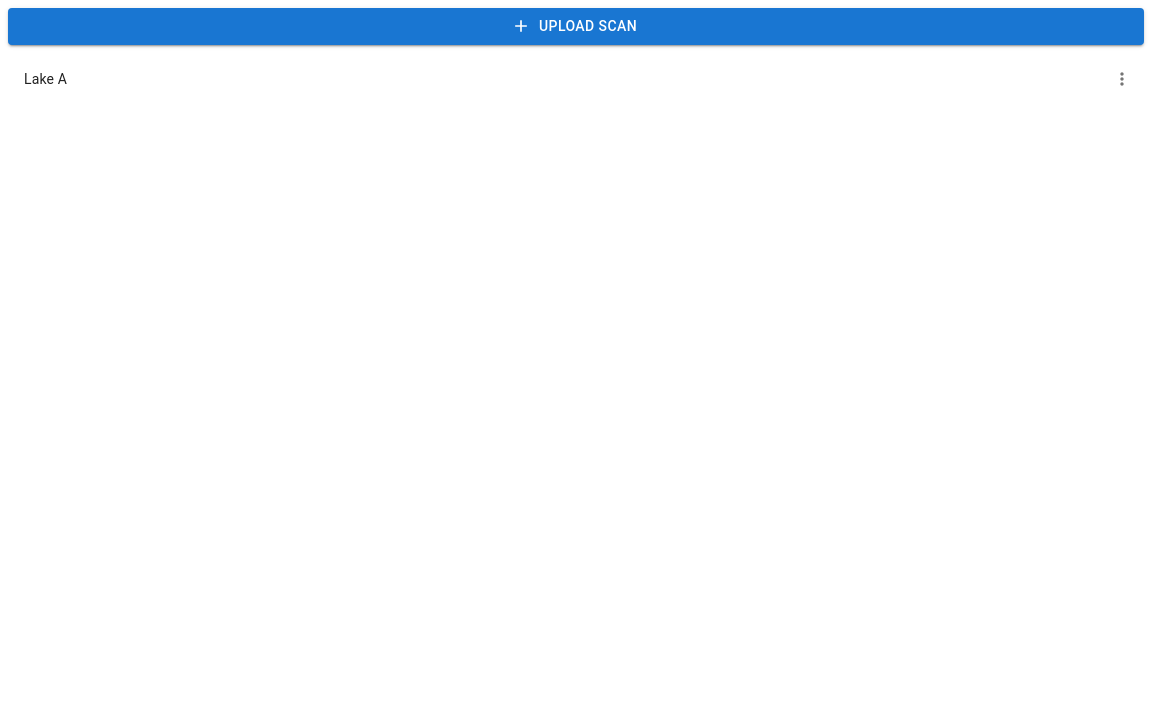
Test: <ScanLibrary/> › per-item menu: Merge scan… opens the merge dialog
Click the button named "more actions for lake a" at (1122, 78), box [1104,60,1140,96]
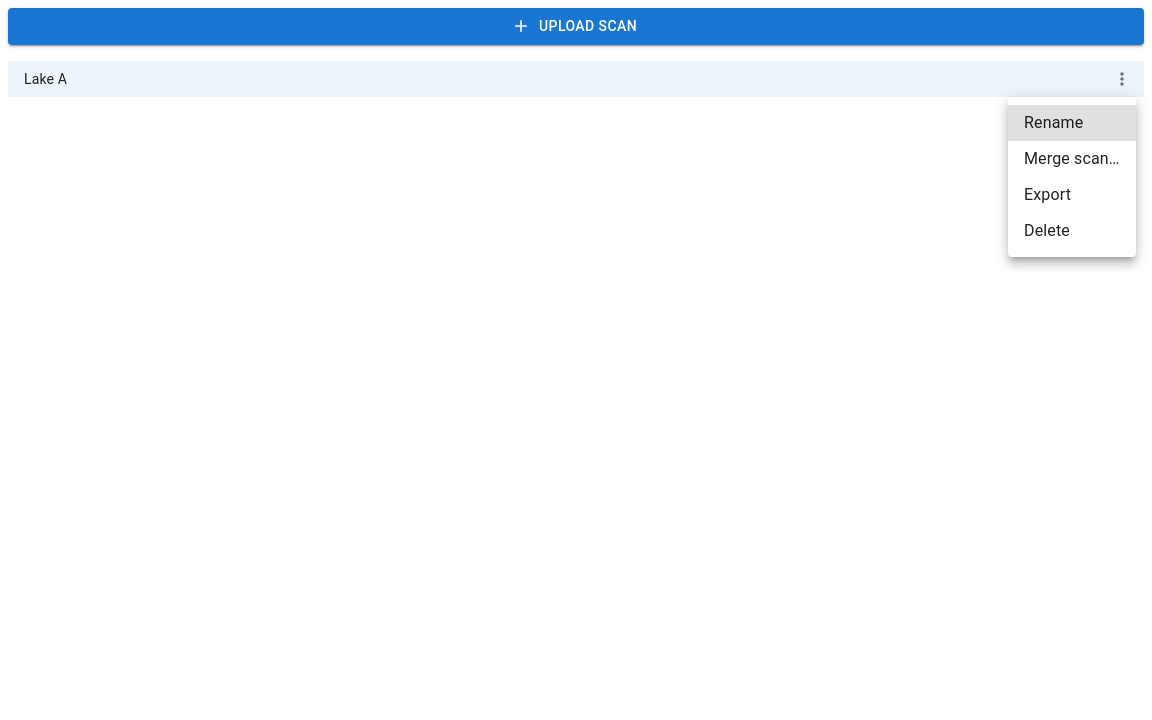
Click the menu item "Merge scan…" at (1072, 158), box [1024,149,1120,168]
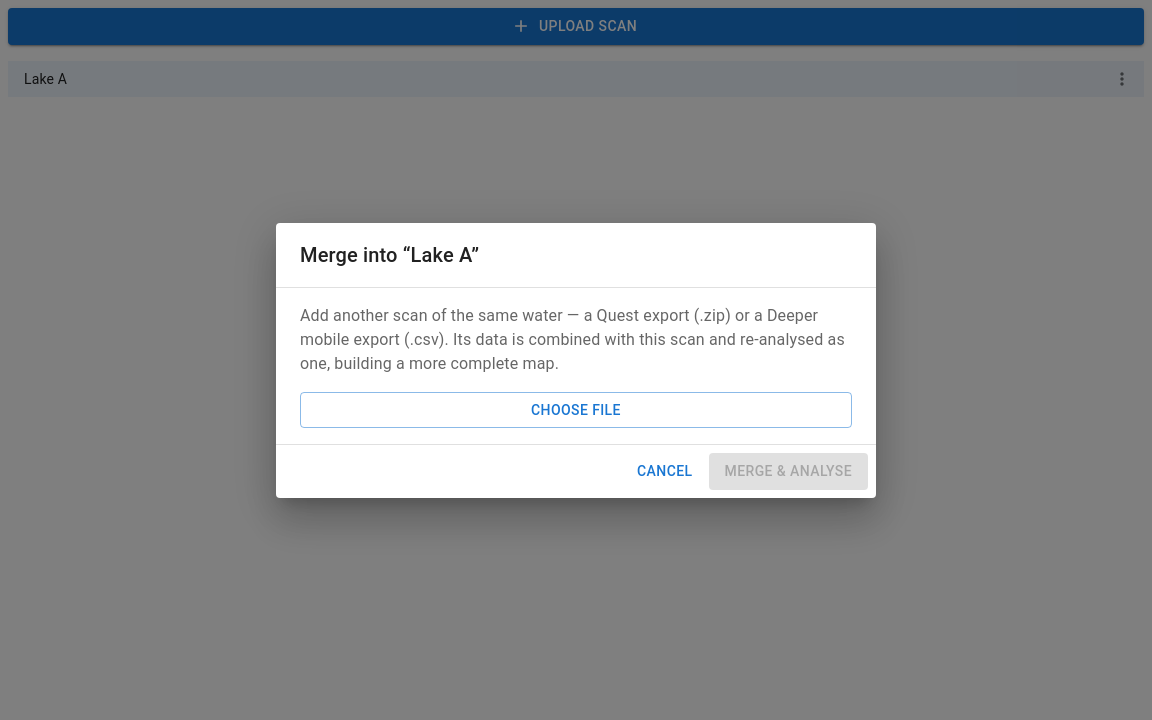
Expected: the dialog shows "Merge into", [300,242,411,266]
Expected: the heading "Merge into “Lake A”" is shown, [300,242,479,266]
